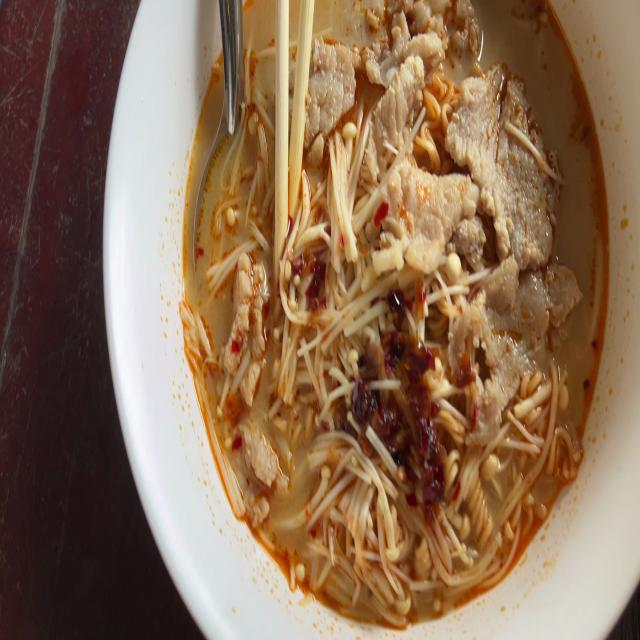noodle: (174, 0, 619, 640)
